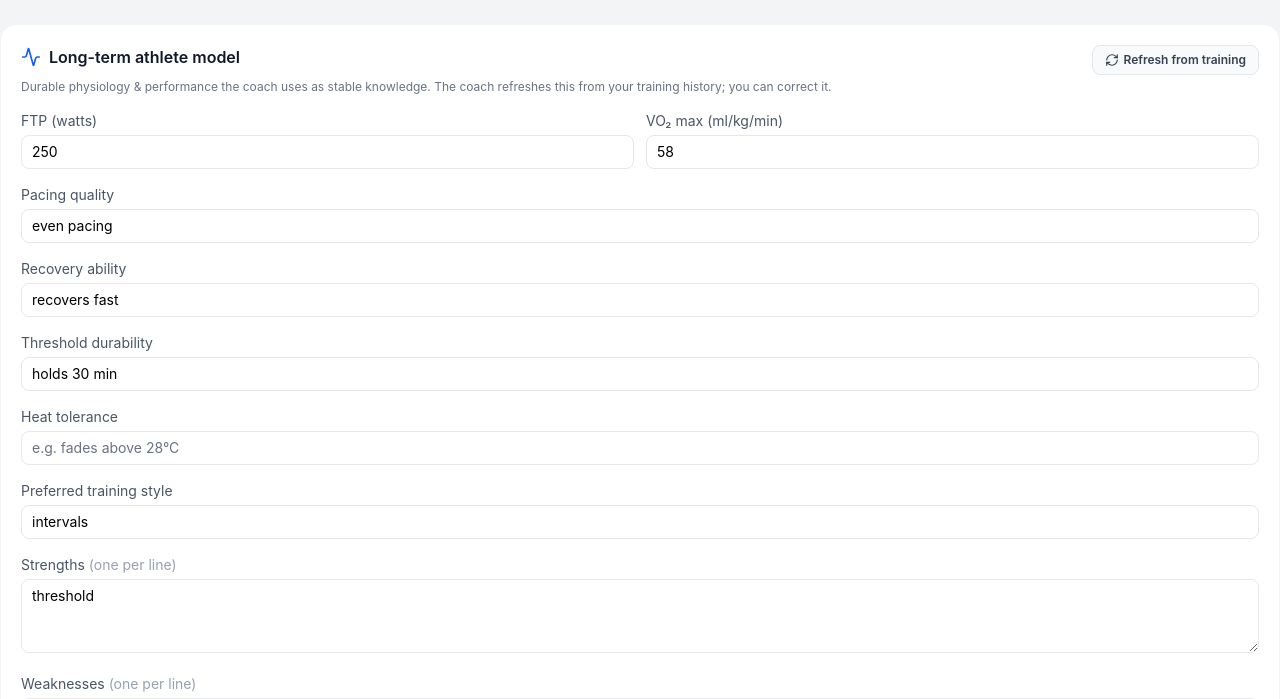
Test: AthleteModelSettings › refreshes the model from training history
Expected: the number field showing "250" is shown, [21,135,634,169]
Click the button "Refresh from training".
click(1176, 60)  # box [1092,45,1259,75]
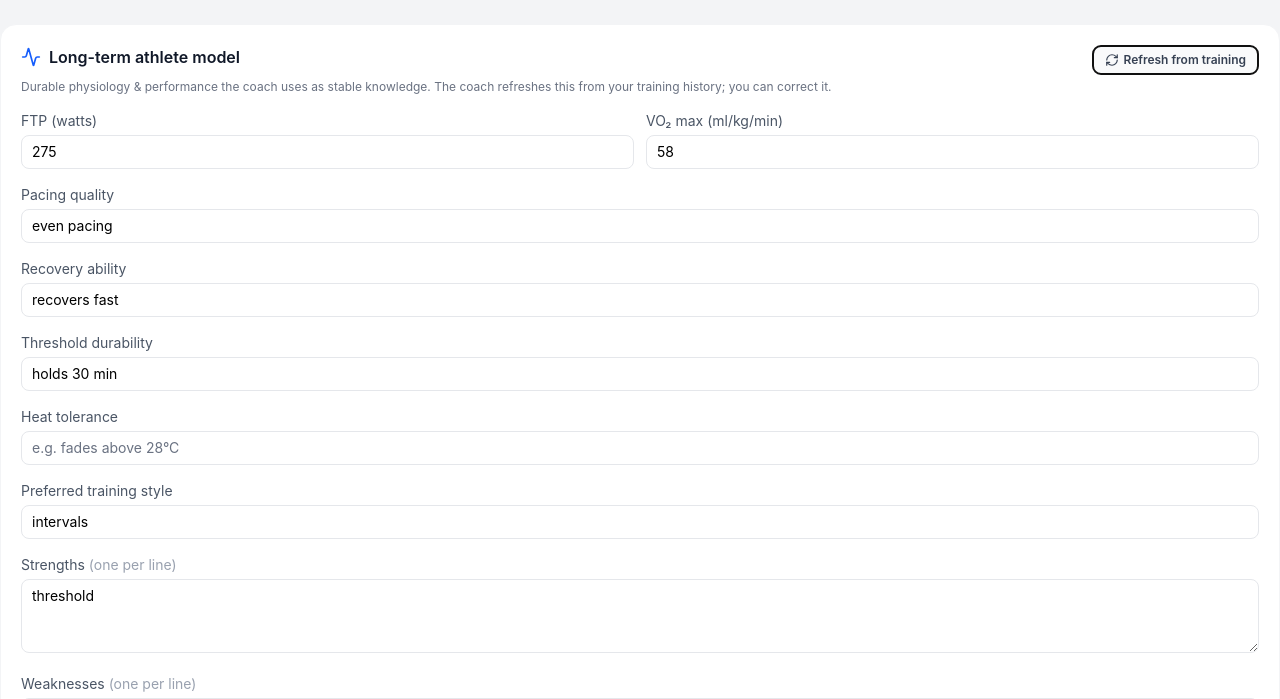
Expected: the number field showing "275" is shown, [21,135,634,169]
